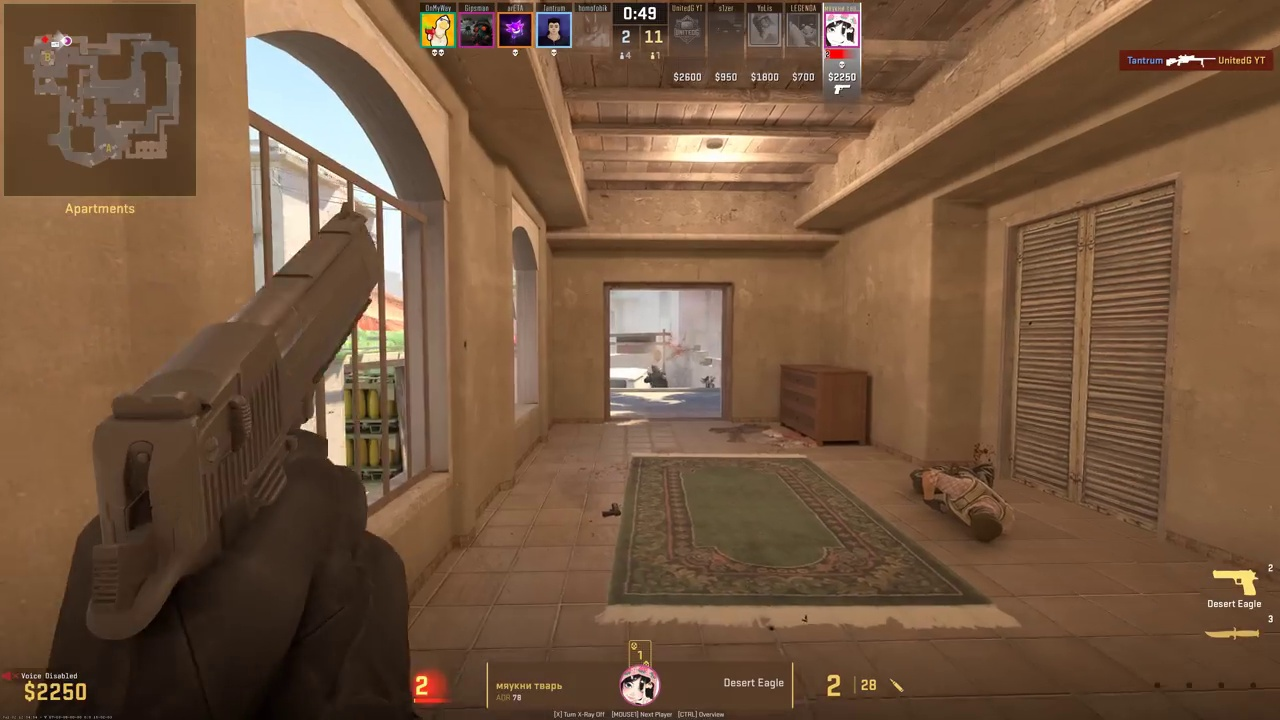CT: (644, 365, 667, 388)
